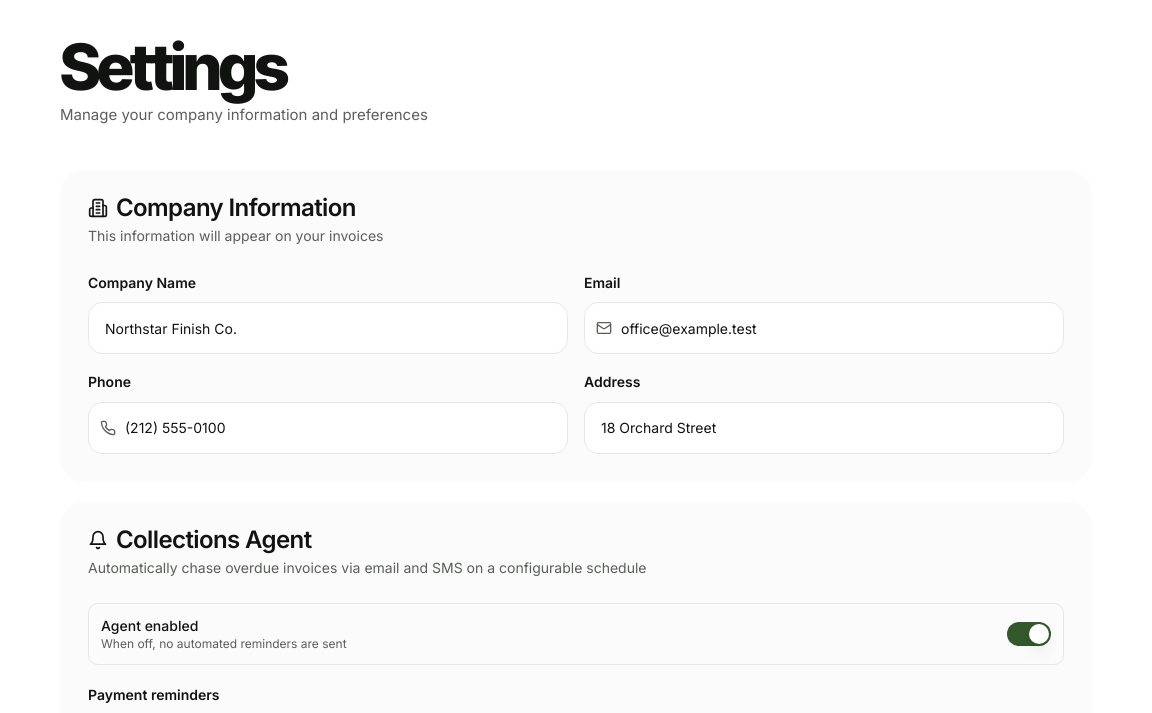
Scenario: Settings page › saves from the bar and hides it once saved
This screenshot has width=1152, height=713.
Expected: the field showing "Northstar Finish Co." is shown, [88,302,568,354]
Replace the text in the field with test id "input-company-phone" with "(212) 555-0199" at (328, 428), box [88,402,568,454]
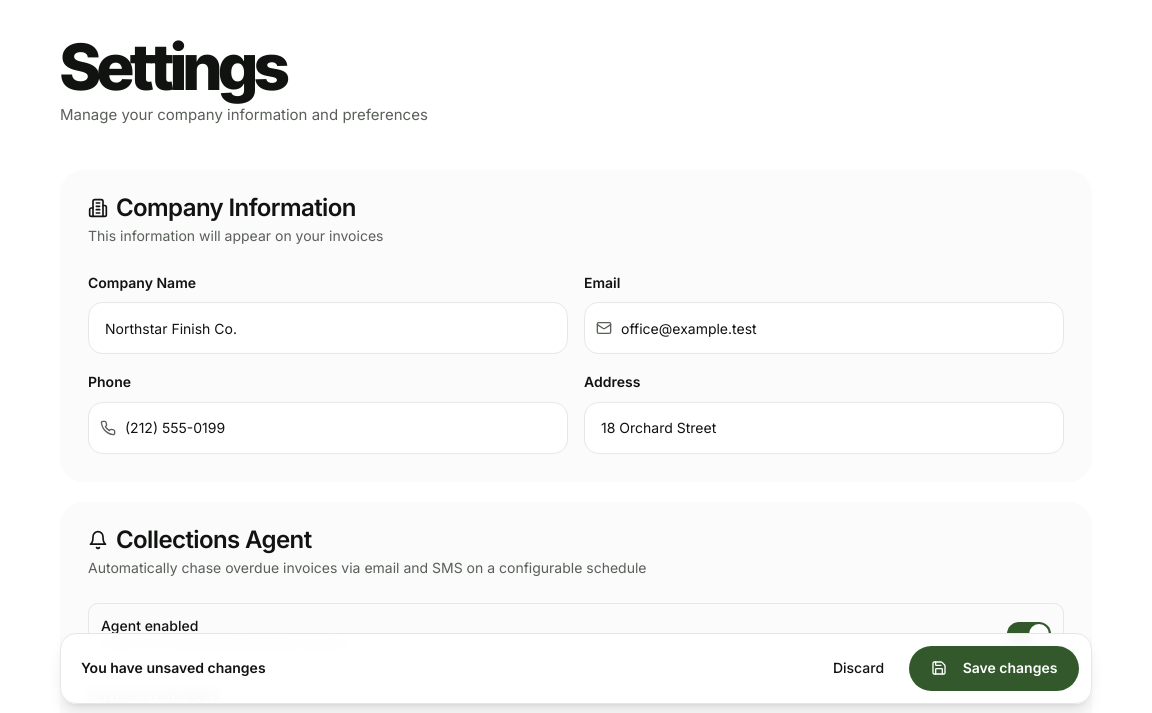
Click the button with test id "button-save-settings-bar" at (994, 669), box [909,646,1079,691]
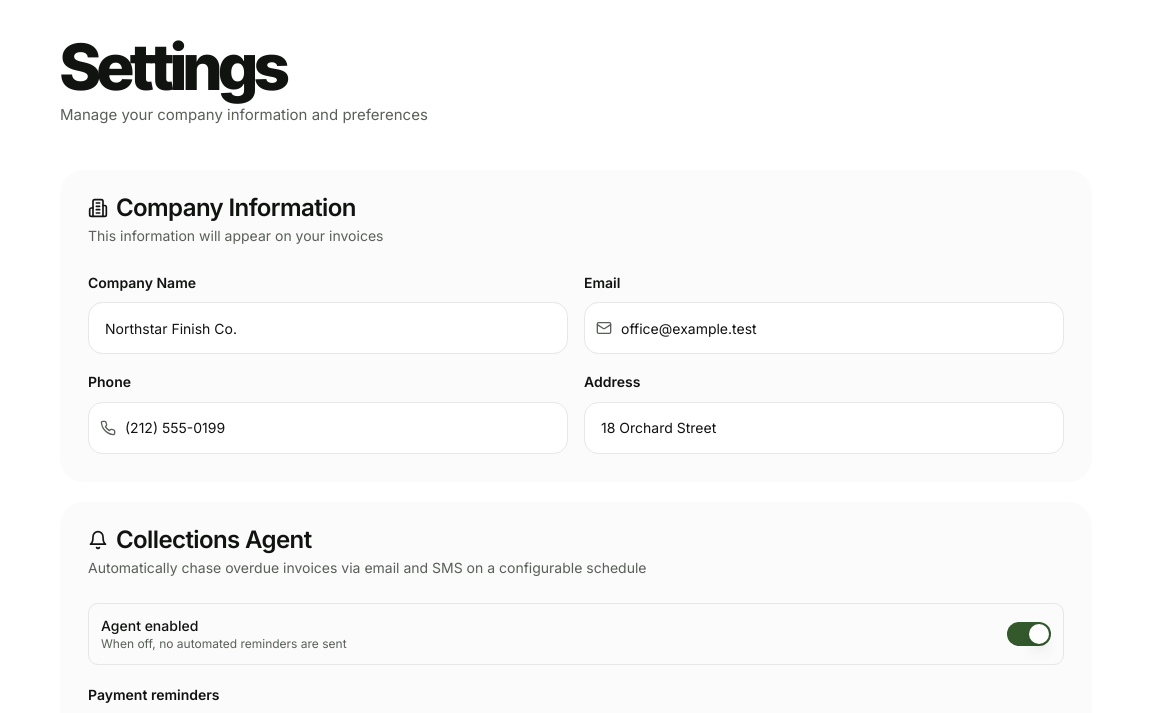
Result: the element with test id "bar-unsaved-changes" is gone
